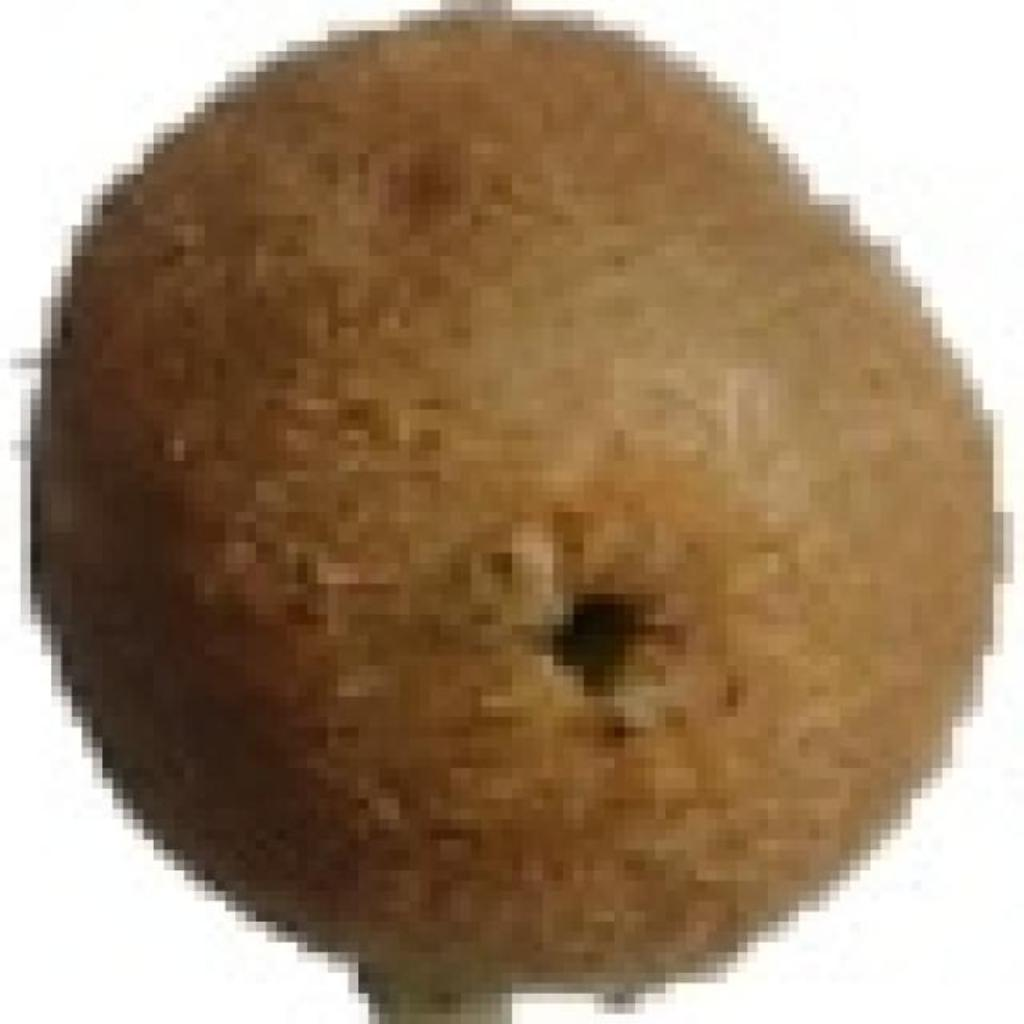kiwi: (39, 16, 992, 1019)
